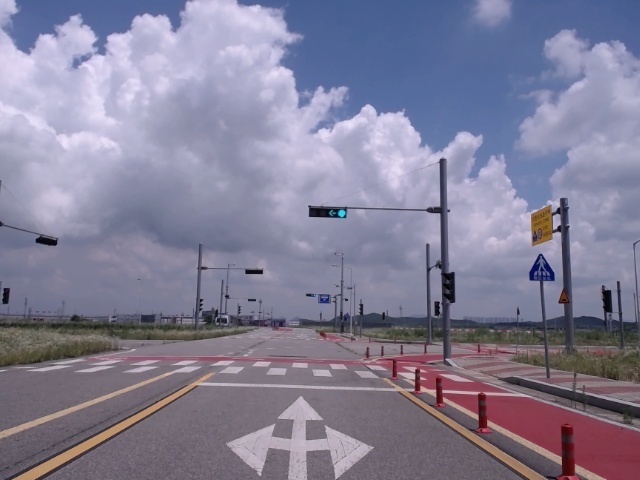all_green_4: (302, 204, 350, 218)
